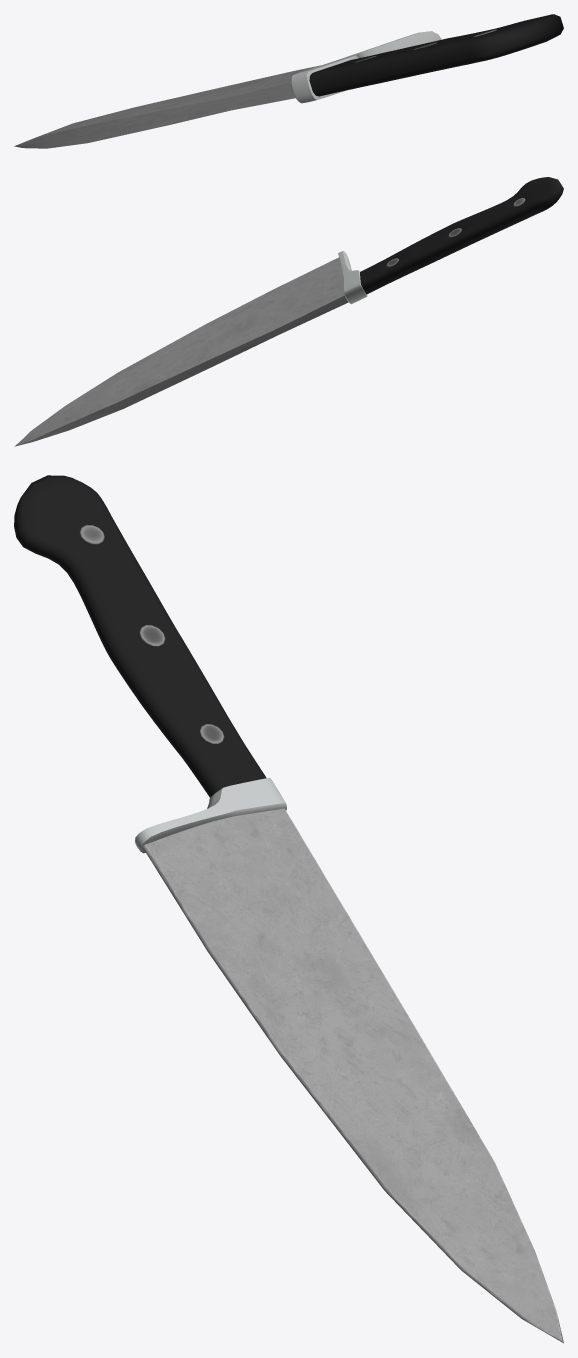
The model's file is kitchen_knife.obj.
The picture shows the model from 3 angles, top to bottom: view 1: azimuth 90°, elevation 25°; view 2: azimuth 150°, elevation 25°; view 3: azimuth 270°, elevation 25°; orthographic projection. The views are drawn at different scales.
Parts seen in each view (by area): view 1: dynamic; view 2: dynamic; view 3: dynamic.
Boxes of the visible parts, x1=… form: dynamic: x1=14, y1=14, x2=563, y2=148; dynamic: x1=14, y1=177, x2=563, y2=446; dynamic: x1=14, y1=475, x2=563, y2=1343.
Size of the model in its own units: 291 by 176 by 178.
Materials: 1 (1 with a texture image).
